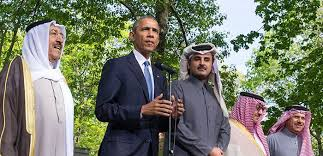middle_eastern_male: (191, 46, 222, 82), (47, 23, 67, 61), (287, 110, 306, 136)
